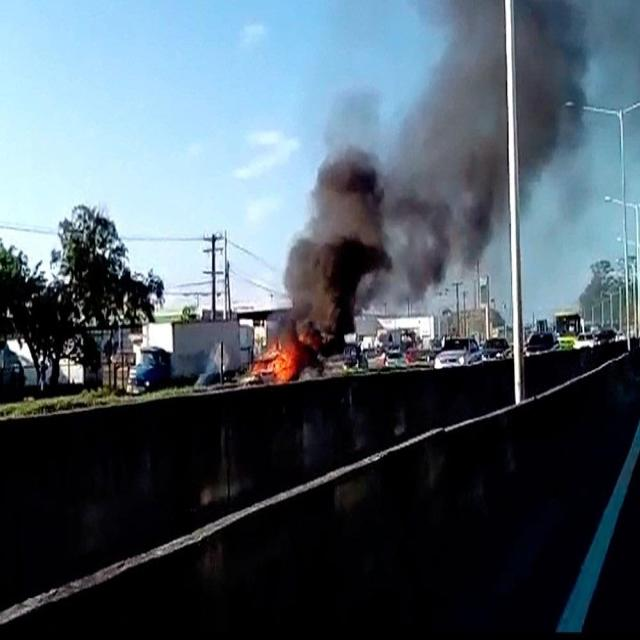Fire: (273, 332, 306, 392)
